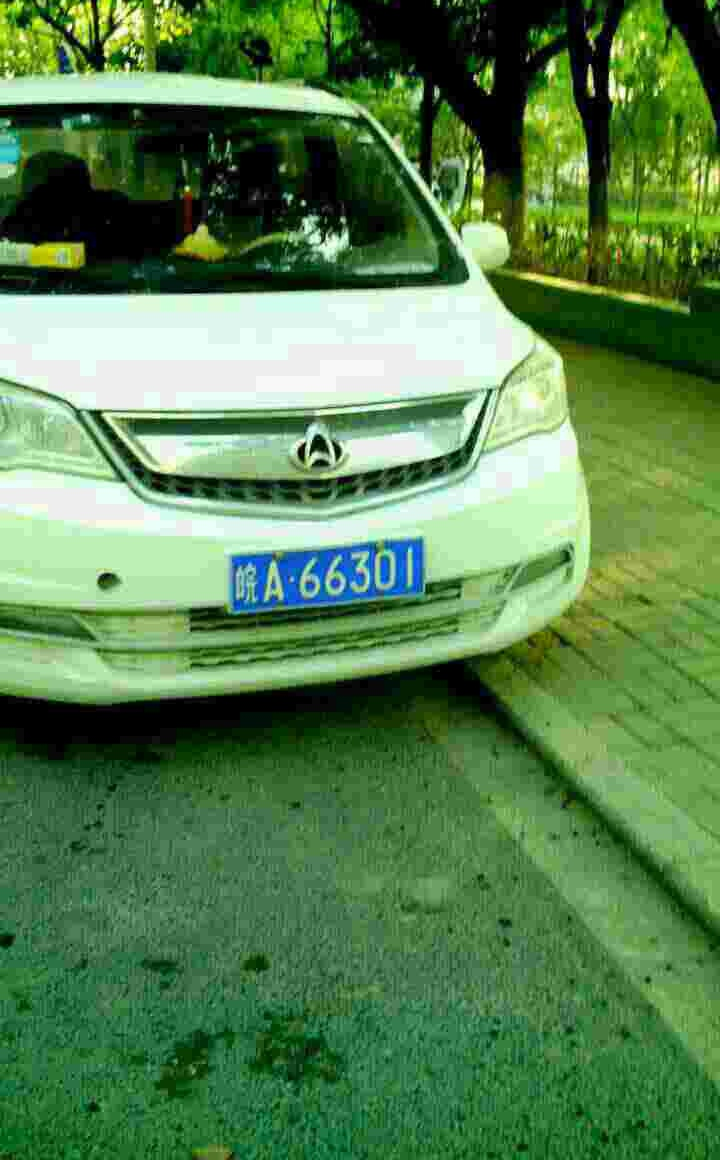license_plate: (223, 538, 426, 618)
